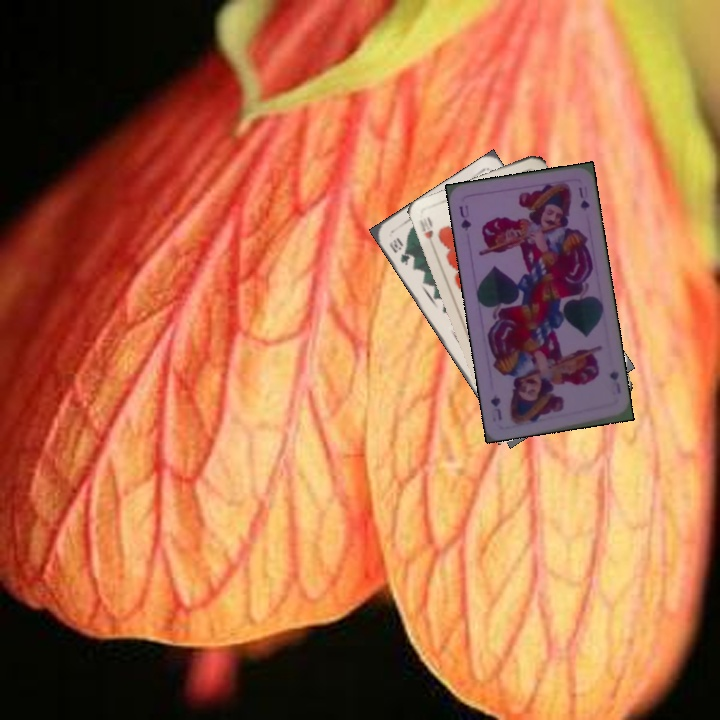G10: (385, 233, 413, 268)
GU: (454, 201, 474, 233), (606, 365, 623, 396)
H10: (415, 212, 438, 252)
